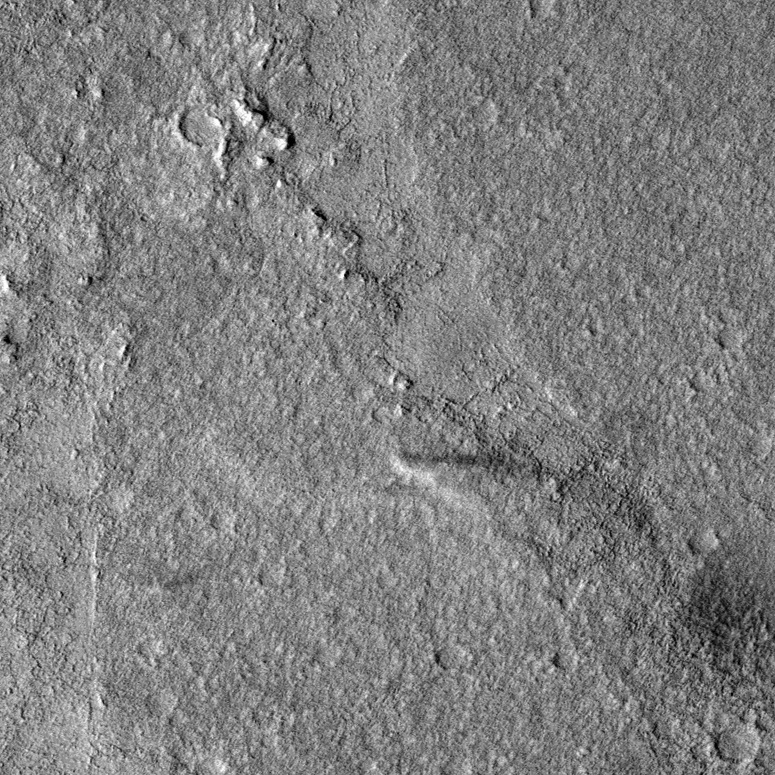dust_devil: (388, 449, 509, 512)
